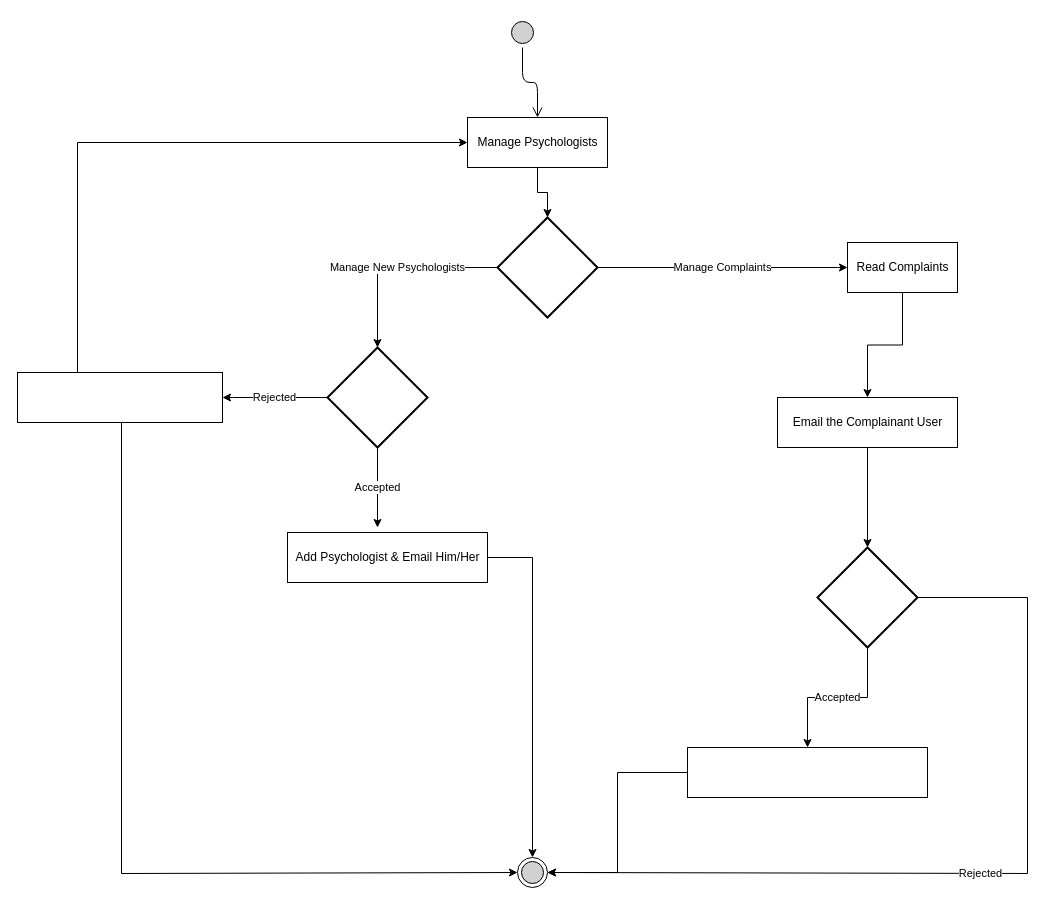
Image size: 1053x905. Some labels were removed from this diagram. Here are the shapes that lost their labels. From the top down, the centre of each, then its label:
pixel 119 397: Email the Rejected Psychologist
pixel 807 772: Email the Psychologist for Further Actions
